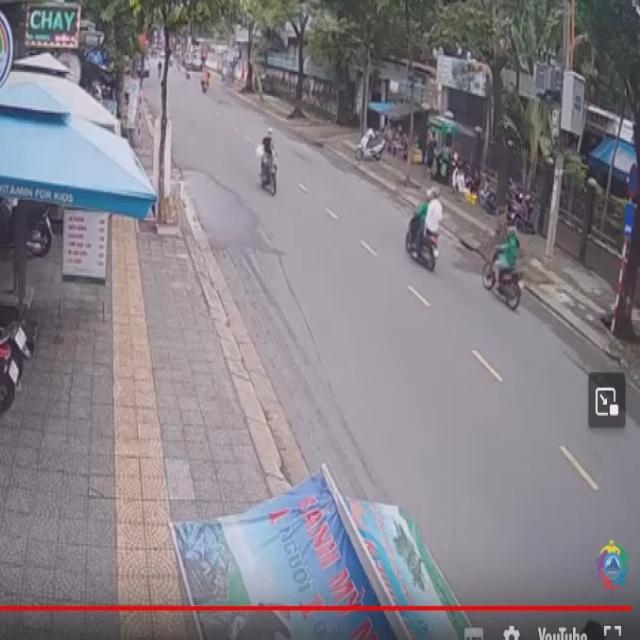motorbike: (481, 226, 525, 316), (402, 186, 443, 274), (258, 128, 282, 194)
